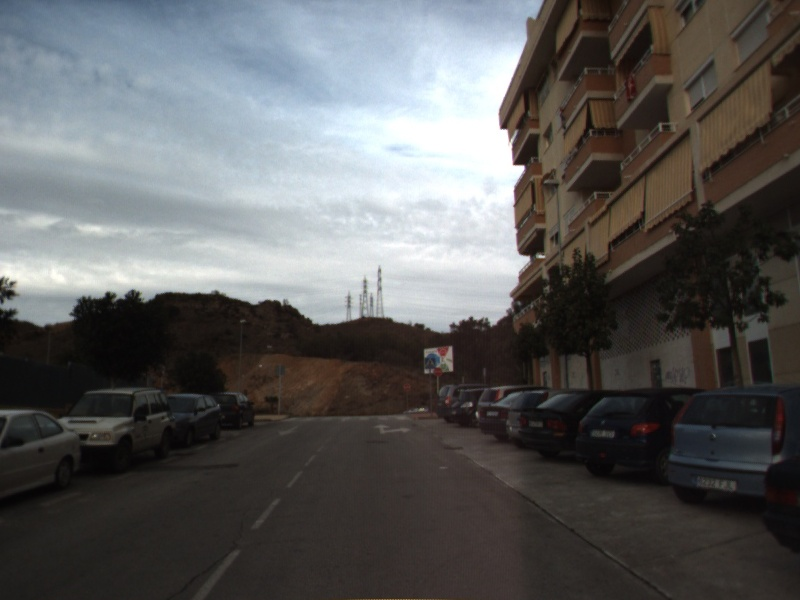STRAIGHT_RIGHT: (370, 422, 414, 436)
